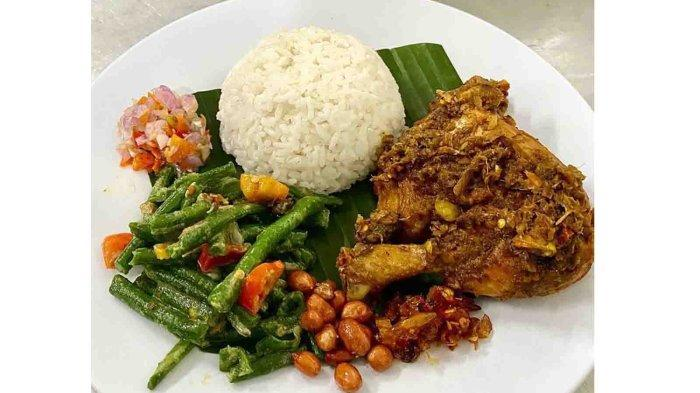ayam_betutu: (336, 75, 594, 301)
